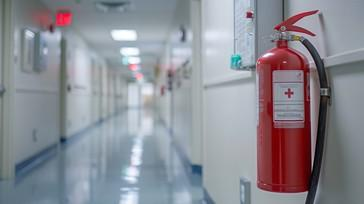wall-mounted: (241, 8, 352, 204)
